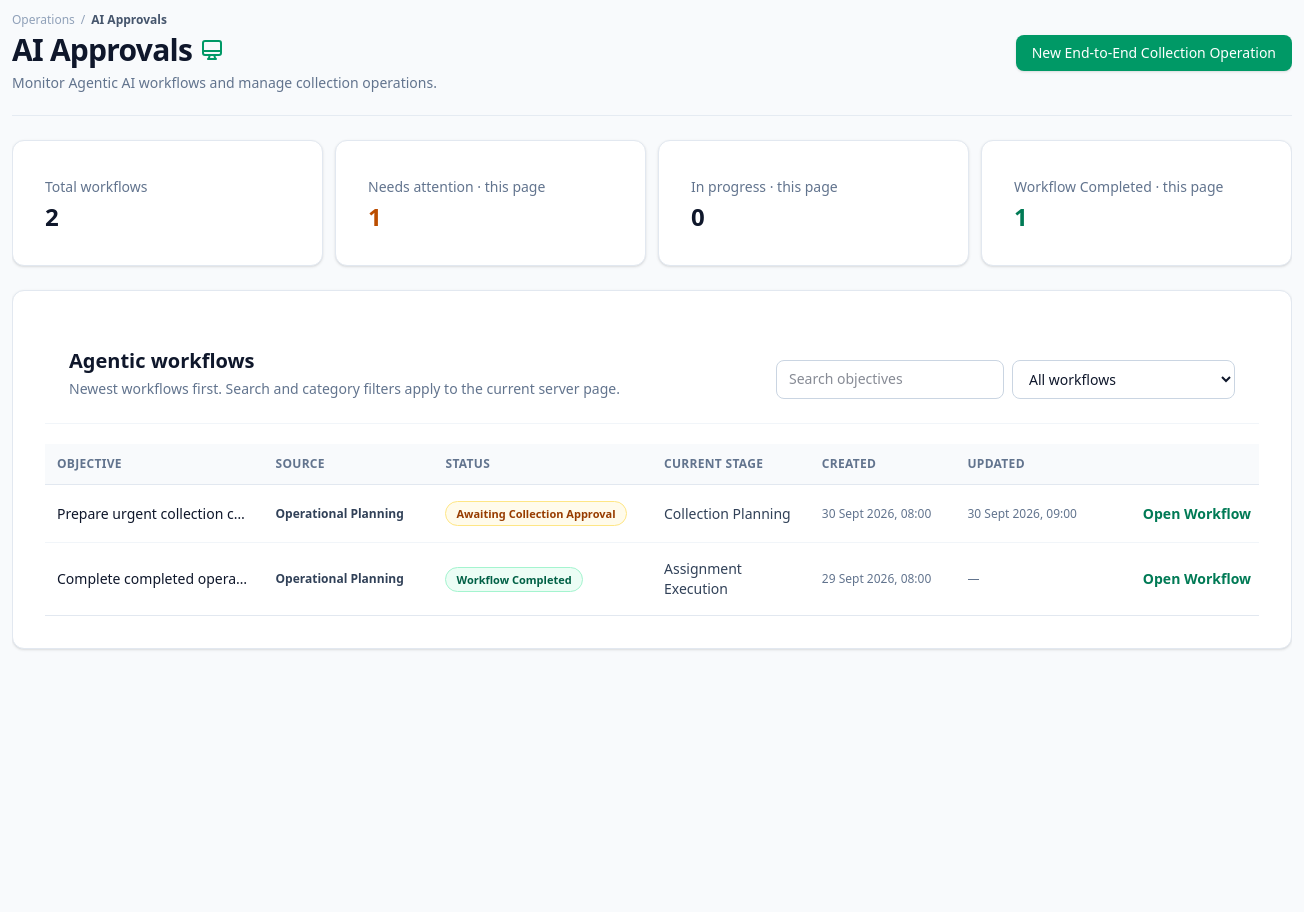
Test case: AiApprovalsPage dashboard and initiation › filters the current server page locally
Expected: the text "Prepare urgent collection coverage." is shown, x1=57 y1=504 x2=252 y2=524
Select "Workflow Completed" in the dropdown named "Workflow status filter": (1124, 379) x1=1012 y1=360 x2=1235 y2=399
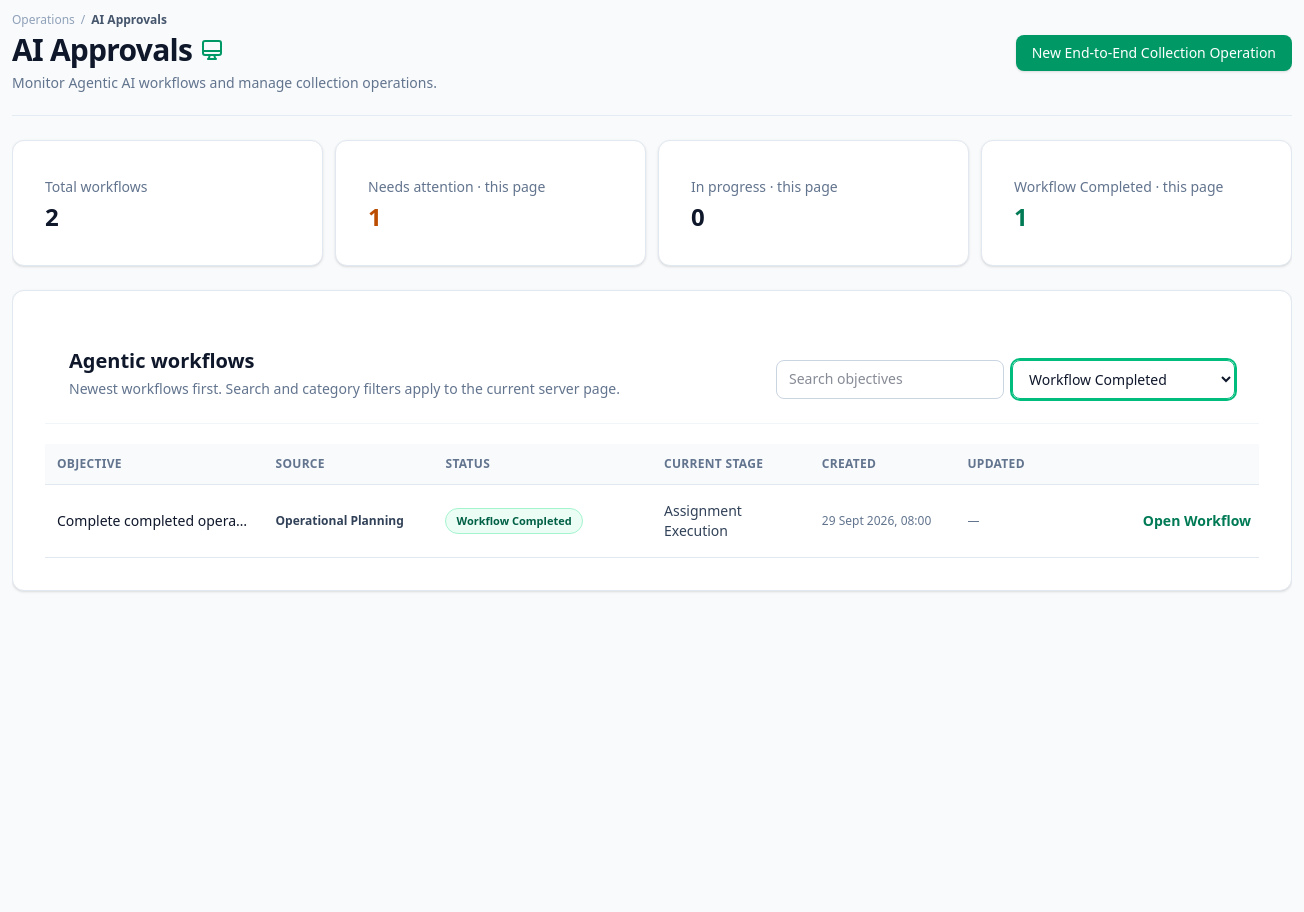
Expected: the text "Complete completed operation." is shown, x1=57 y1=511 x2=252 y2=531
Now the text "Prepare urgent collection coverage." is gone
